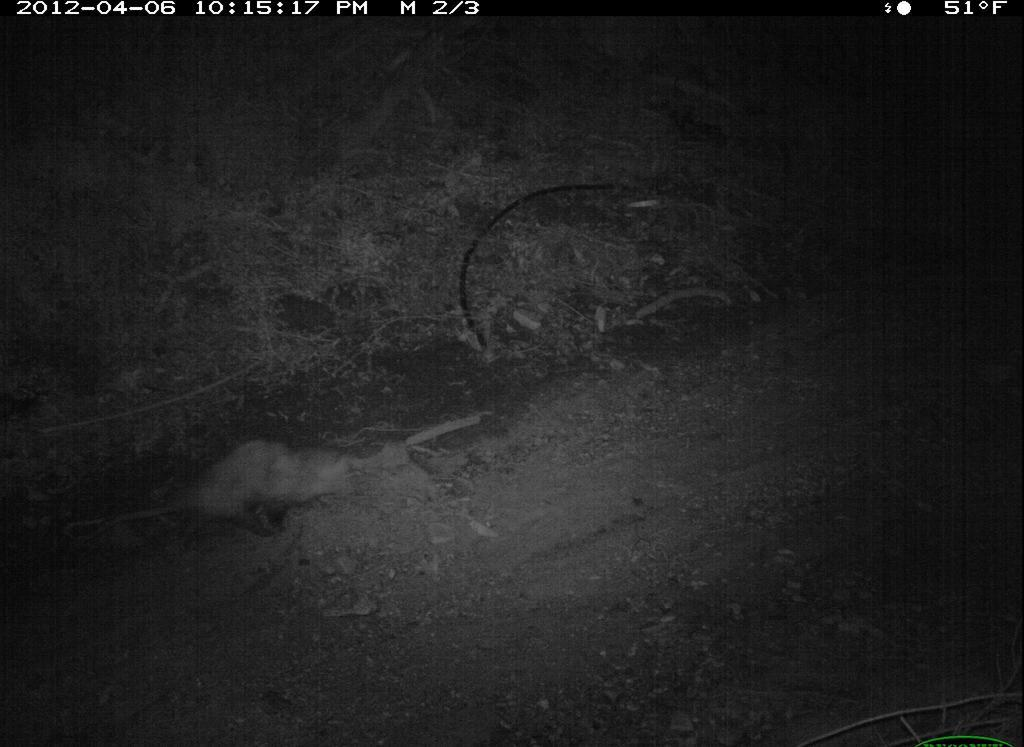opossum: (94, 436, 374, 542)
